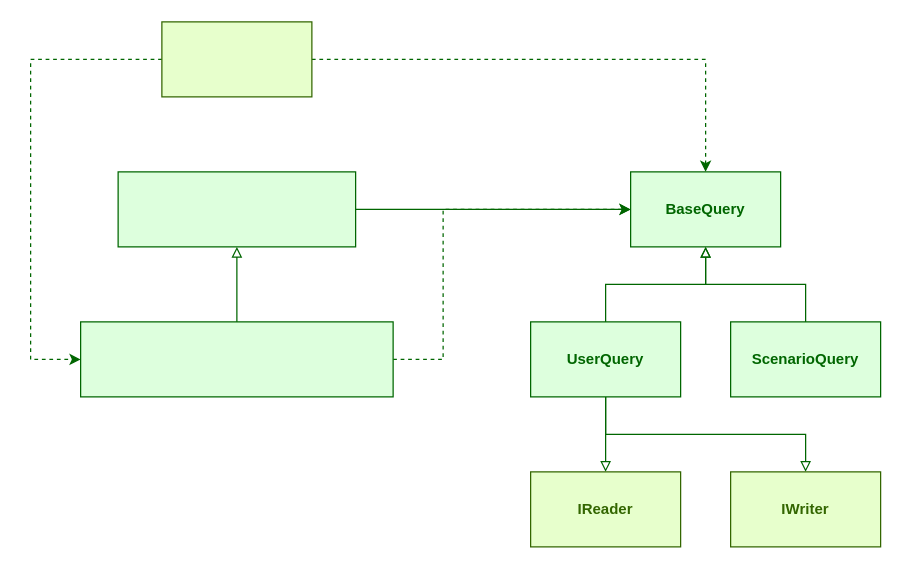
This 903x569 diagram has some shape labels left out. The shapes that lost their labels are listed below. From the top down, each one's centre as x and y in pixels, then its label:
At (236,59): "ESqlKataCompiler".
At (236,209): "SqlKataCompilerFactory".
At (236,359): "FromEnumSqlKataCompilerFactory".
